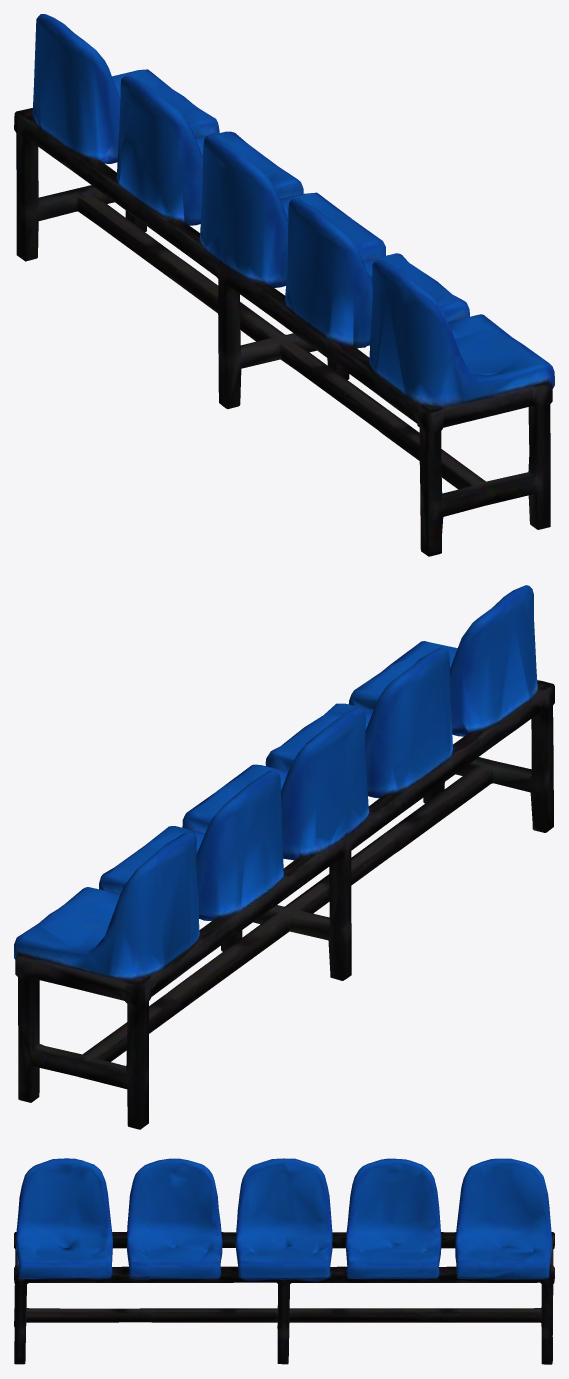
File: banca.glb
The picture shows the model from 3 angles, top to bottom: view 1: azimuth 30°, elevation 25°; view 2: azimuth 150°, elevation 25°; view 3: azimuth 270°, elevation 25°; orthographic projection. The views are drawn at different scales.
Parts seen in each view (by area): view 1: tripo_node_39991714-b62e-49e2-b81f-6ce12cc8fe4b; view 2: tripo_node_39991714-b62e-49e2-b81f-6ce12cc8fe4b; view 3: tripo_node_39991714-b62e-49e2-b81f-6ce12cc8fe4b.
Part boxes in pixels (x1=…): tripo_node_39991714-b62e-49e2-b81f-6ce12cc8fe4b: x1=14, y1=14, x2=554, y2=556; tripo_node_39991714-b62e-49e2-b81f-6ce12cc8fe4b: x1=14, y1=585, x2=554, y2=1129; tripo_node_39991714-b62e-49e2-b81f-6ce12cc8fe4b: x1=14, y1=1158, x2=554, y2=1364.
Bounding box in the file's own units: 0.4326 × 0.799 × 2.32.
Materials: 1 (1 with a texture image).
